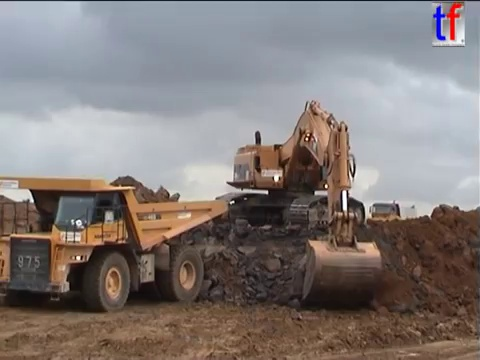excavator: (211, 97, 386, 309)
truck: (1, 174, 231, 314), (368, 199, 419, 229)
